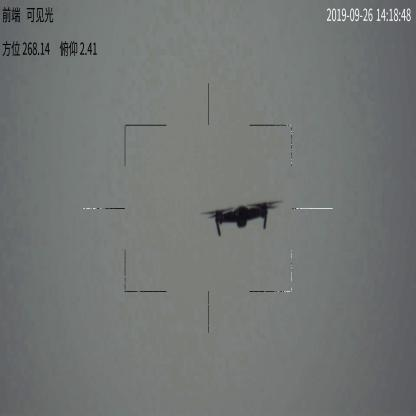uav: (199, 196, 282, 236)
